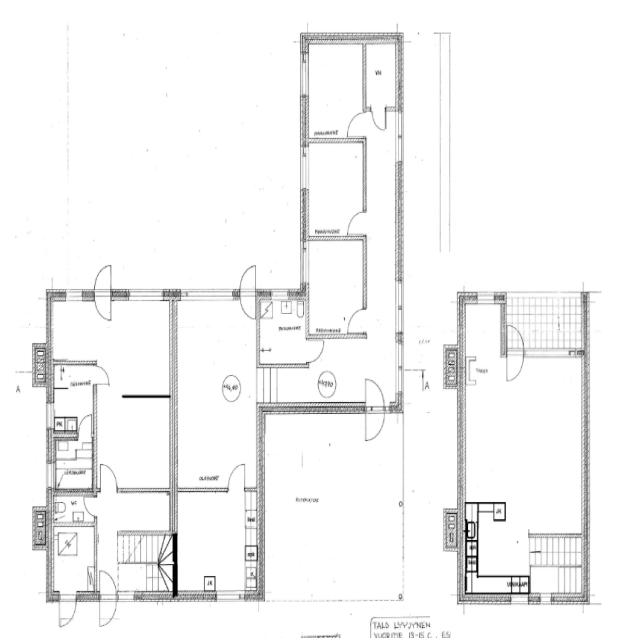door: (364, 374, 387, 444), (97, 564, 119, 629), (504, 322, 526, 385), (93, 264, 113, 323), (238, 262, 258, 320), (57, 592, 79, 630), (225, 459, 248, 492), (98, 460, 120, 494), (345, 304, 367, 338), (345, 108, 367, 140), (345, 206, 367, 237), (305, 335, 327, 365), (370, 104, 388, 133), (93, 361, 112, 388), (78, 411, 94, 436), (82, 493, 98, 517)
window: (181, 285, 236, 305), (392, 273, 407, 338), (392, 108, 406, 167), (526, 346, 576, 361), (126, 286, 166, 304), (180, 483, 226, 498), (298, 143, 311, 194), (214, 588, 247, 606), (298, 51, 310, 100), (394, 334, 406, 383), (299, 239, 310, 289), (475, 290, 498, 306), (270, 286, 293, 301), (46, 458, 56, 492), (64, 288, 85, 302), (117, 590, 138, 603), (537, 590, 554, 606), (46, 398, 54, 428)
zone: (463, 357, 585, 531), (173, 296, 257, 488), (173, 489, 261, 598), (51, 296, 175, 362), (94, 393, 173, 490), (303, 139, 366, 239), (303, 41, 365, 141), (303, 238, 365, 336), (464, 504, 529, 593), (258, 296, 307, 368), (462, 298, 504, 382), (50, 522, 98, 595), (51, 361, 95, 434), (364, 38, 399, 106), (53, 435, 95, 491), (362, 376, 387, 444), (50, 491, 95, 522), (344, 305, 368, 337), (33, 342, 47, 385), (33, 509, 47, 548)
